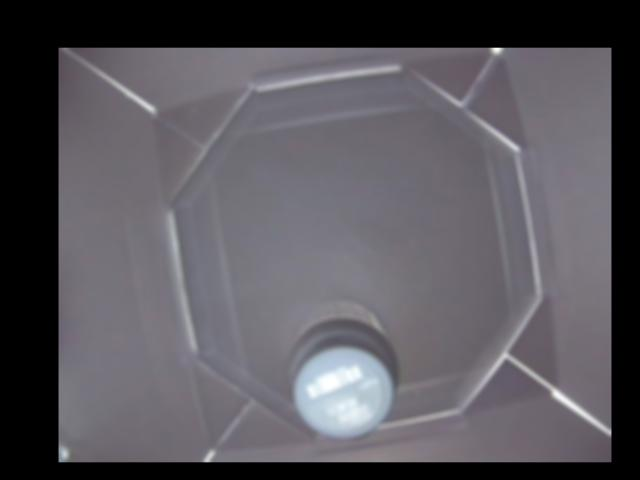Bottle: (290, 300, 400, 439)
